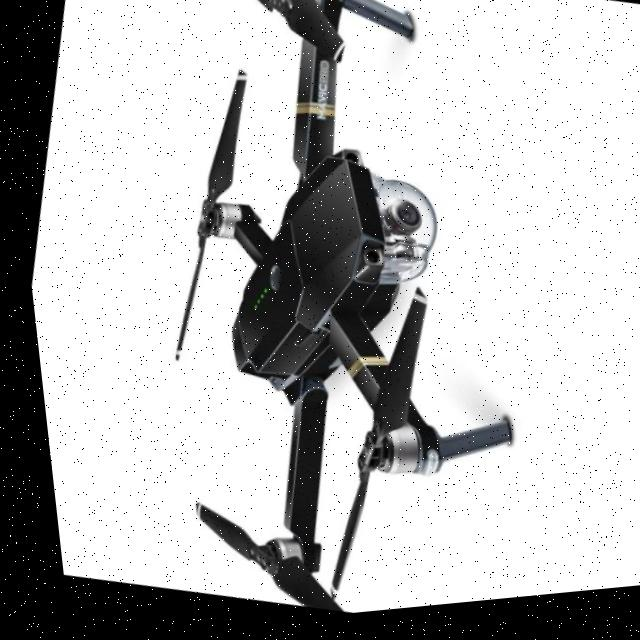drones: (47, 0, 611, 636)
